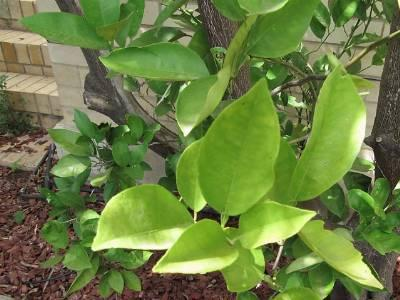Healthy Citrus: (203, 75, 279, 211), (299, 66, 361, 203), (301, 219, 383, 293), (96, 188, 183, 257), (241, 0, 319, 58), (155, 219, 233, 275), (101, 44, 212, 78), (186, 59, 234, 133), (15, 11, 107, 48), (232, 206, 317, 240), (83, 1, 138, 37), (48, 129, 95, 154), (54, 155, 91, 177), (60, 181, 87, 210)
